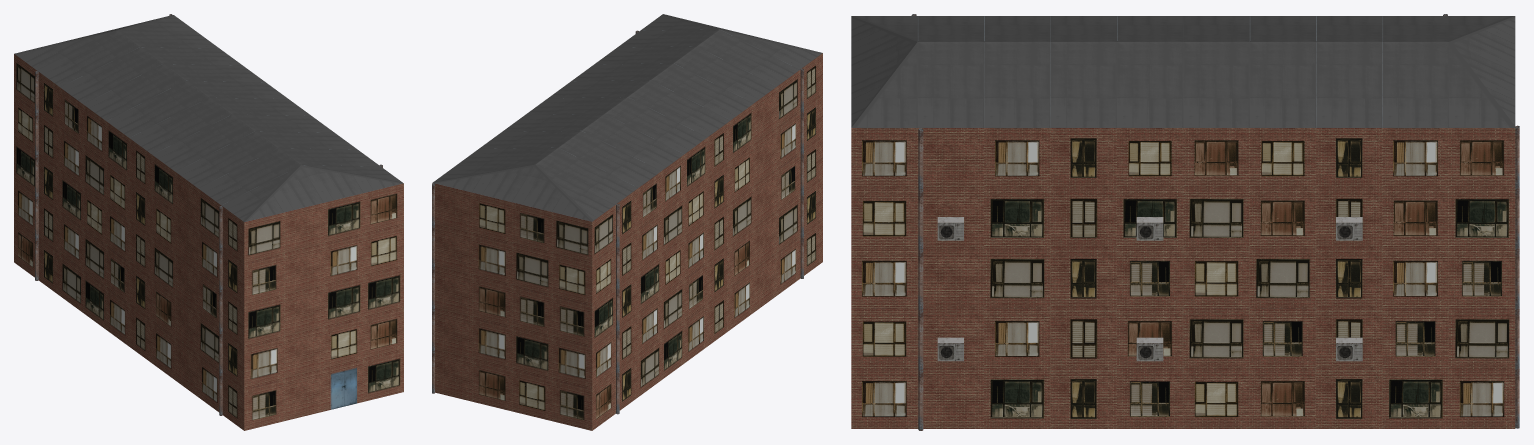
Rendered from Alex_LongBrickBlock_Model.fbx.
3 views of the same model, side by side, from view 1: azimuth 30°, elevation 25°; view 2: azimuth 150°, elevation 25°; view 3: azimuth 270°, elevation 25° (orthographic). The views are drawn at different scales.
Parts seen in each view (by area): view 1: Alex_LongBrickBlock_Part00, Alex_LongBrickBlock_Part01; view 2: Alex_LongBrickBlock_Part00, Alex_LongBrickBlock_Part01; view 3: Alex_LongBrickBlock_Part00, Alex_LongBrickBlock_Part01.
Part boxes in pixels (bbox=[...]): Alex_LongBrickBlock_Part00: bbox=[14, 14, 403, 430]; Alex_LongBrickBlock_Part01: bbox=[14, 15, 403, 222]; Alex_LongBrickBlock_Part00: bbox=[432, 30, 822, 430]; Alex_LongBrickBlock_Part01: bbox=[432, 14, 822, 221]; Alex_LongBrickBlock_Part00: bbox=[851, 14, 1519, 430]; Alex_LongBrickBlock_Part01: bbox=[851, 16, 1515, 127].
Bounding box in the file's own units: 11.97 × 15.4 × 28.19.
